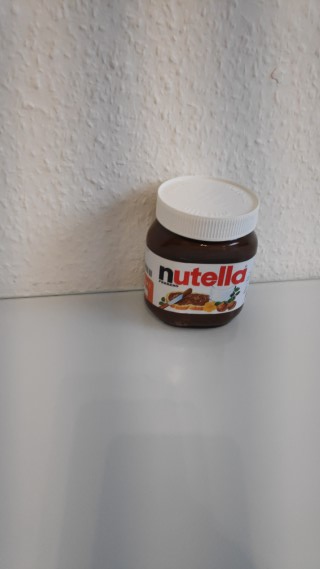nutella: (140, 171, 259, 330)
